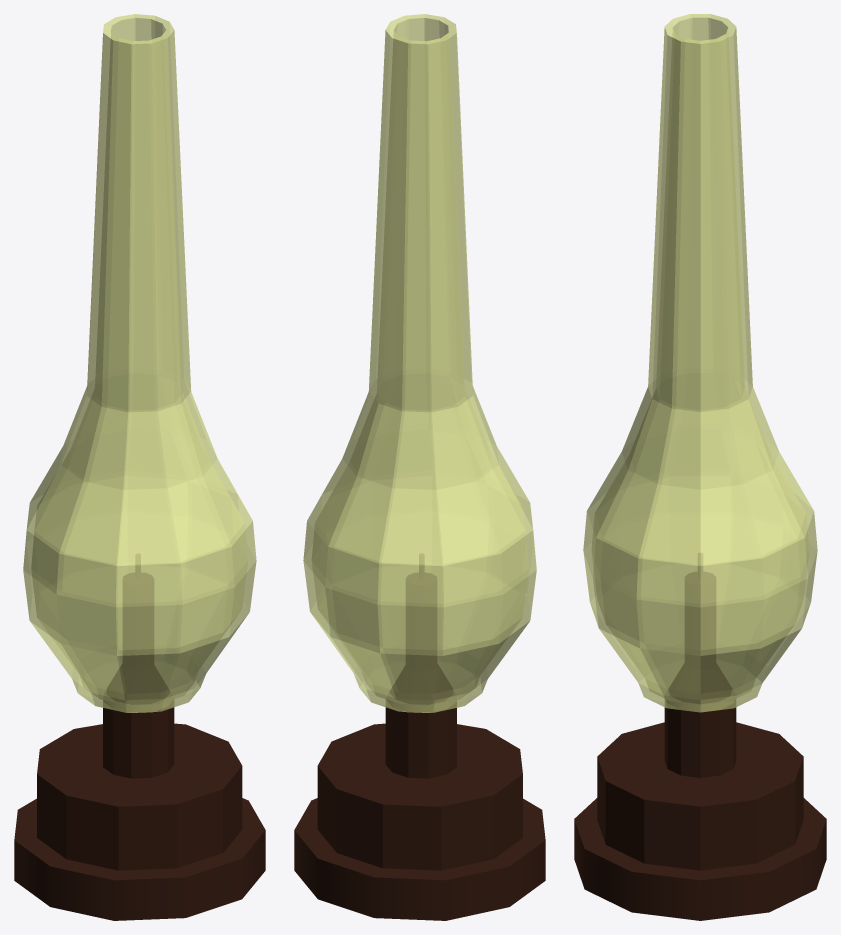
The model's file is Modé_LampaUIL.FBX.
3 renders of one model, left to right at view 1: azimuth 30°, elevation 25°; view 2: azimuth 150°, elevation 25°; view 3: azimuth 270°, elevation 25°, orthographic.
Parts seen in each view (by area): view 1: Cylinder001; view 2: Cylinder001; view 3: Cylinder001.
Part boxes in pixels (x1,y1,x2,y2): Cylinder001: (14, 14, 265, 920); Cylinder001: (294, 14, 545, 920); Cylinder001: (574, 14, 826, 920).
Size of the model in its own units: 6.68 by 24.74 by 6.75.
